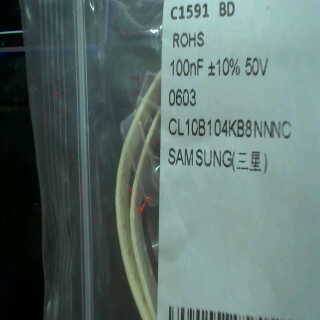100nF: (169, 54, 206, 83)
